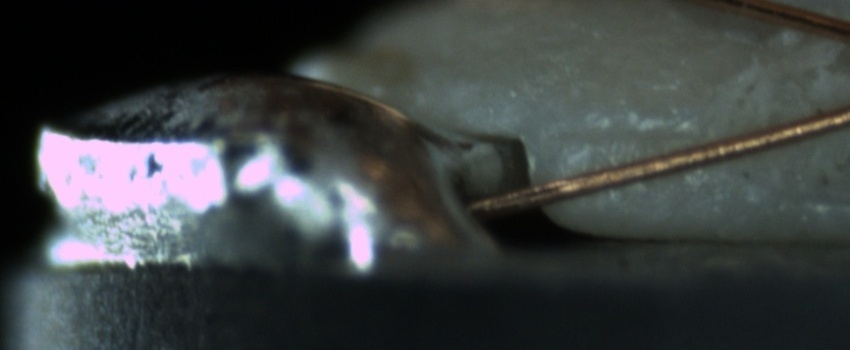DL: (561, 101, 709, 163)
